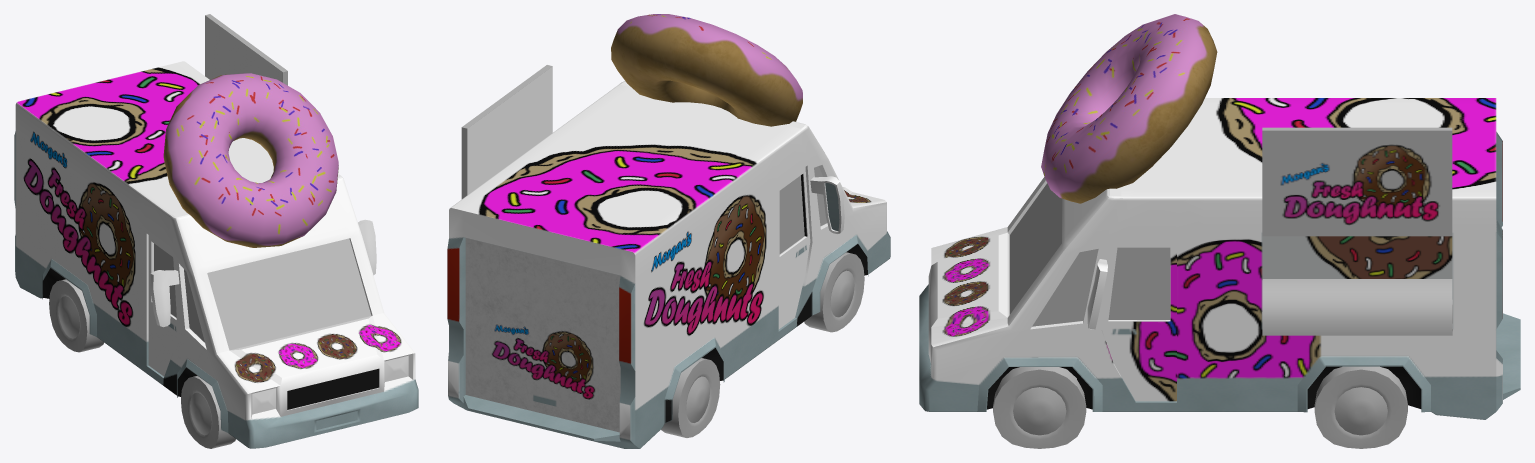
Rendered from donutvantest.fbx.
3 views of the same model, side by side, from view 1: azimuth 30°, elevation 25°; view 2: azimuth 150°, elevation 25°; view 3: azimuth 270°, elevation 25° (orthographic). The views are drawn at different scales.
Visible parts, largest first — view 1: van, donut, glass, wheel2, wheel1, mirrors; view 2: van, donut, wheel2, wheel1, glass, mirrors; view 3: van, donut, pCylinder2, glass, wheel3, wheel, mirrors.
Boxes of the visible parts, x1=… form: van: x1=14, y1=14, x2=418, y2=448; donut: x1=163, y1=73, x2=338, y2=247; glass: x1=154, y1=238, x2=371, y2=350; wheel2: x1=49, y1=279, x2=103, y2=352; wheel1: x1=181, y1=375, x2=235, y2=448; mirrors: x1=150, y1=219, x2=376, y2=327; van: x1=447, y1=65, x2=890, y2=448; donut: x1=611, y1=14, x2=802, y2=126; wheel2: x1=661, y1=358, x2=720, y2=437; wheel1: x1=804, y1=252, x2=864, y2=332; glass: x1=779, y1=166, x2=827, y2=253; mirrors: x1=810, y1=176, x2=844, y2=233; van: x1=919, y1=98, x2=1520, y2=419; donut: x1=1041, y1=14, x2=1217, y2=203; pCylinder2: x1=1262, y1=279, x2=1452, y2=335; glass: x1=1009, y1=183, x2=1170, y2=326; wheel3: x1=1314, y1=366, x2=1407, y2=448; wheel: x1=993, y1=367, x2=1086, y2=448; mirrors: x1=1087, y1=259, x2=1107, y2=329.
Bounding box in the file's own units: 7.93 × 10.33 × 15.24.
